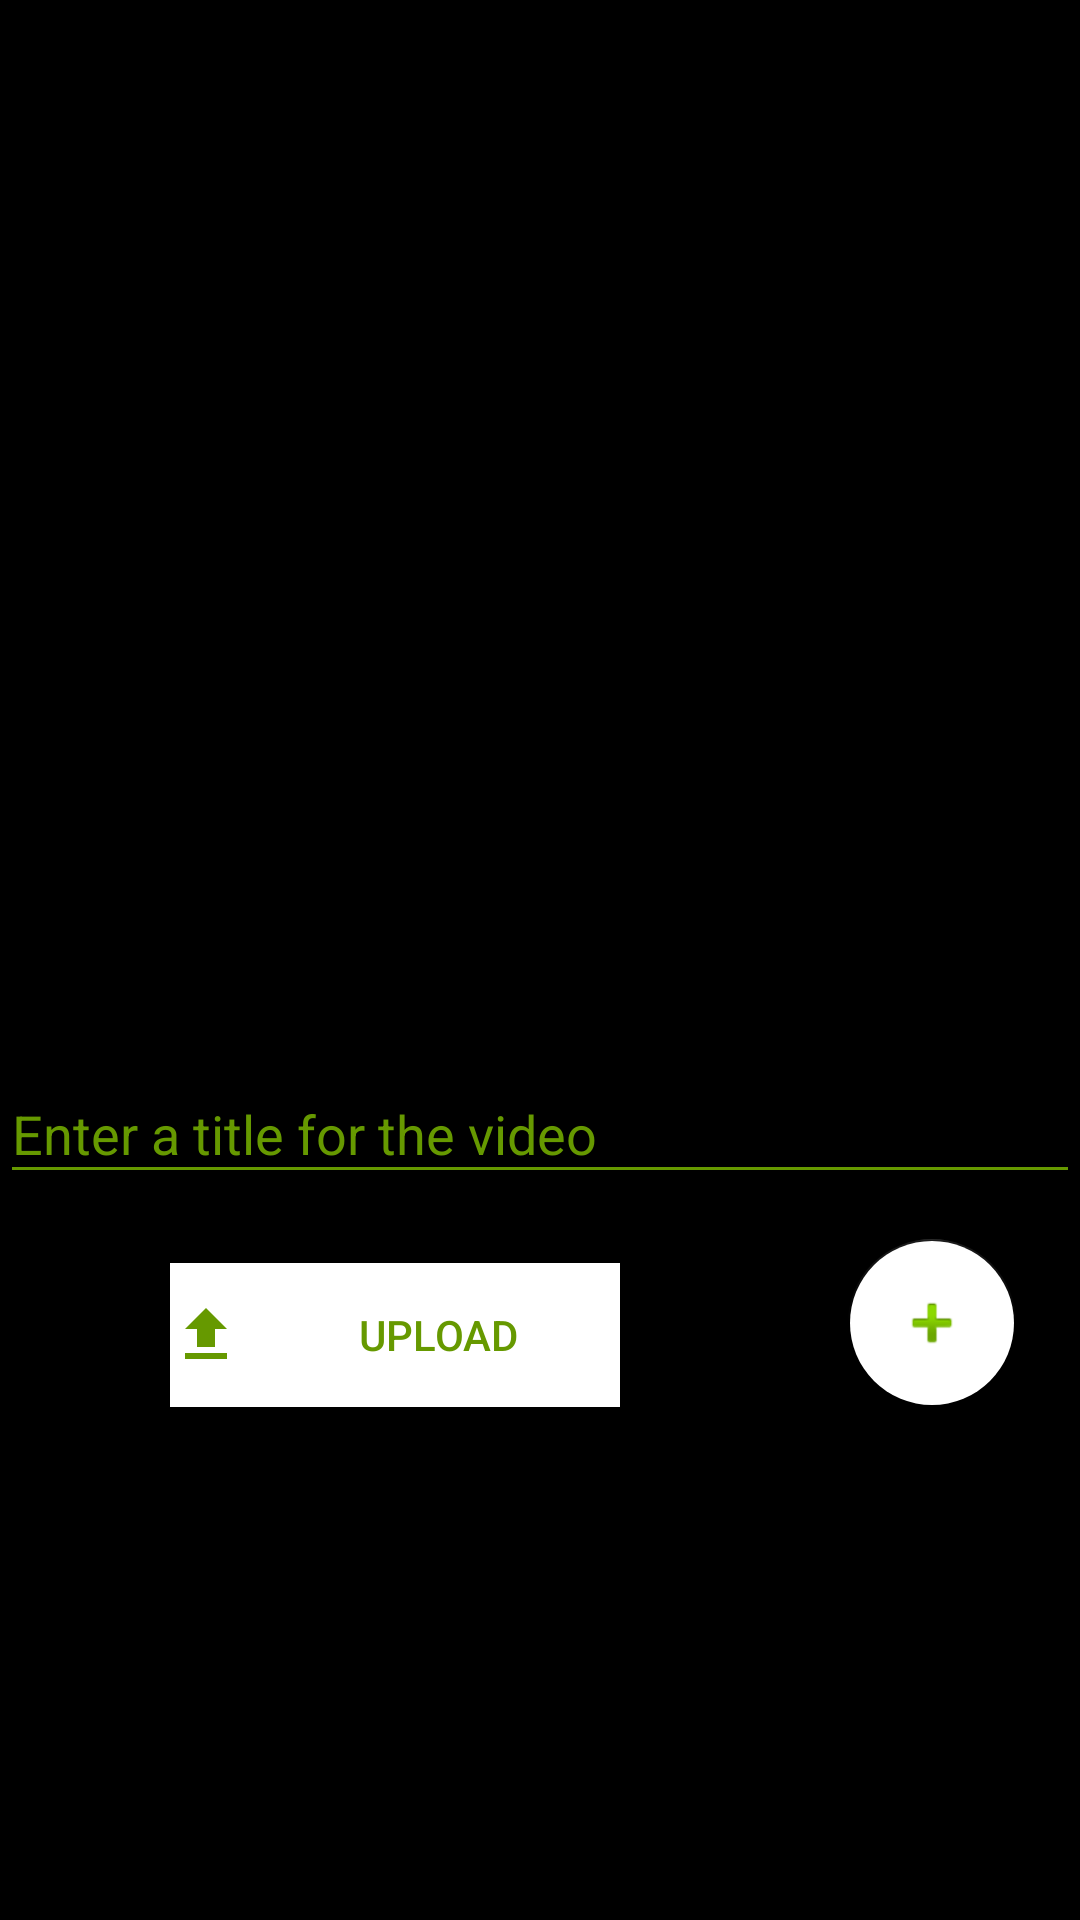

Locate icon controls on the screen. Image size 1080w x 1920h, boxes as detection(x1, y1, x2, y2).
add: detection(850, 1239, 1014, 1405)
